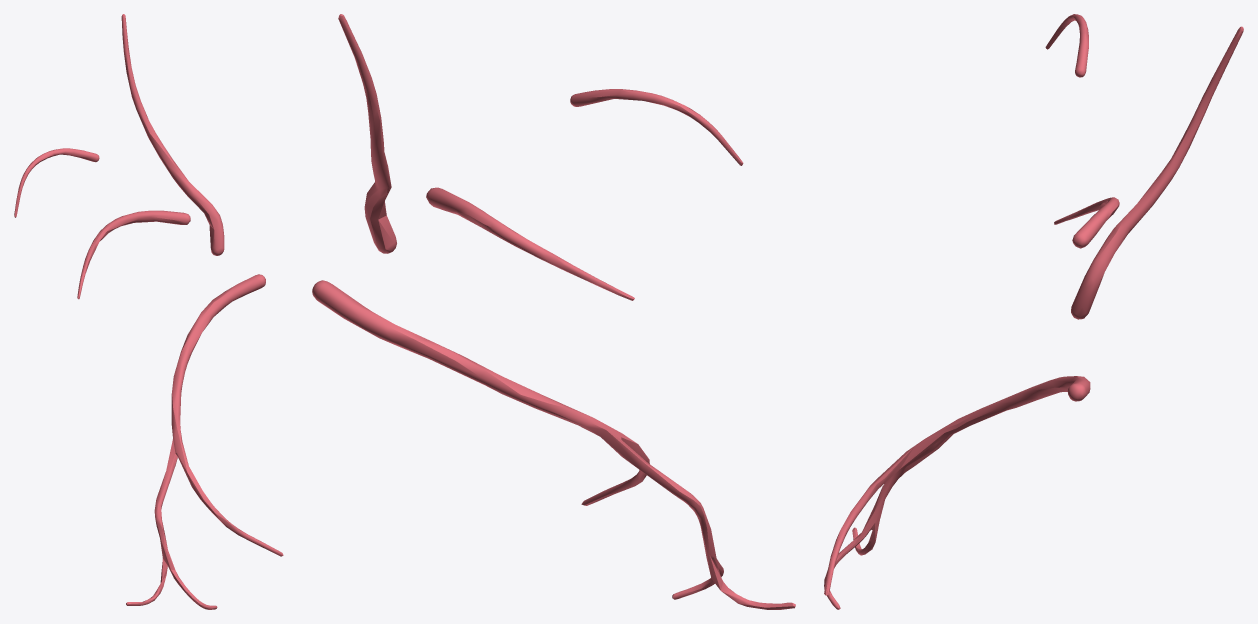
The model's file is fma70443_fj3075.glb.
3 renders of one model, left to right at view 1: azimuth 30°, elevation 25°; view 2: azimuth 150°, elevation 25°; view 3: azimuth 270°, elevation 25°, orthographic. The views are drawn at different scales.
Parts seen in each view (by area): view 1: FMA70443_FJ3075; view 2: FMA70443_FJ3075; view 3: FMA70443_FJ3075.
Boxes of the visible parts, x1,y1,x2,y2 form: FMA70443_FJ3075: (14,14,283,609); FMA70443_FJ3075: (312,14,795,609); FMA70443_FJ3075: (824,14,1243,609).
Size of the model in its own units: 0.0407 by 0.0695 by 0.0426.
